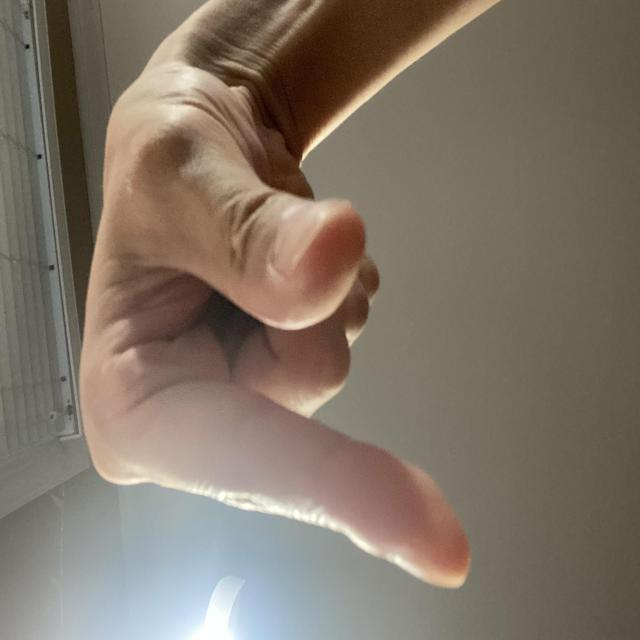Q: (34, 97, 442, 640)
